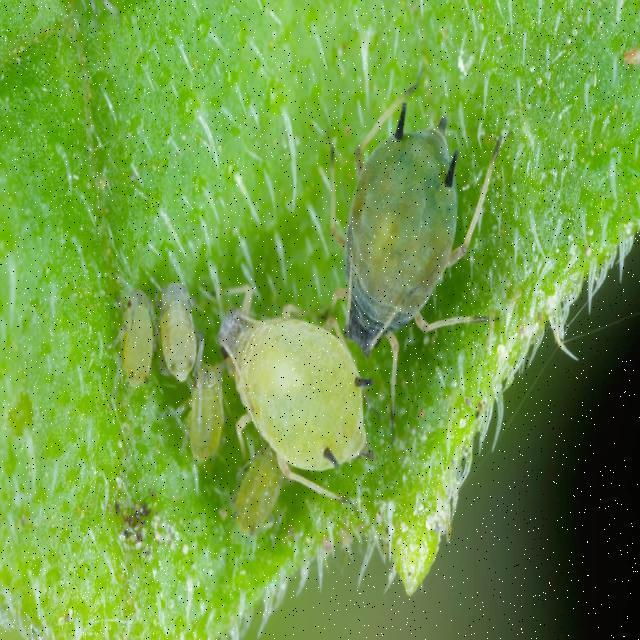Aphids: (338, 112, 496, 375), (204, 269, 377, 508), (151, 222, 198, 418), (235, 419, 291, 558), (113, 270, 164, 417), (180, 372, 234, 490)
